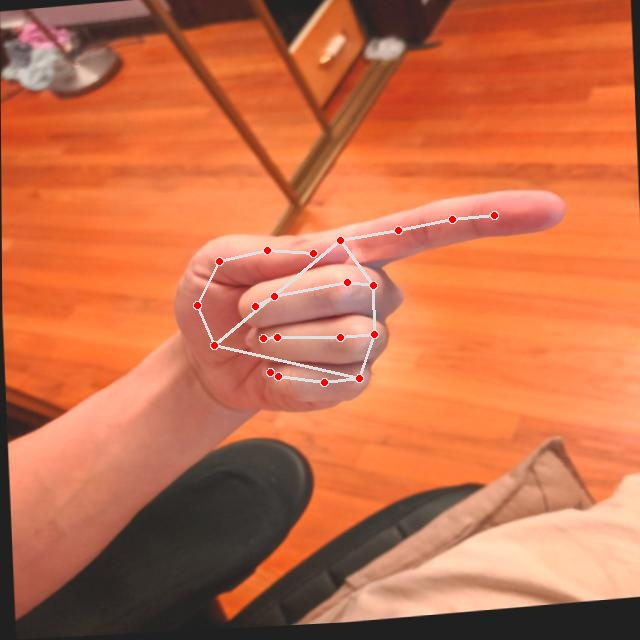G: (165, 184, 586, 430)
